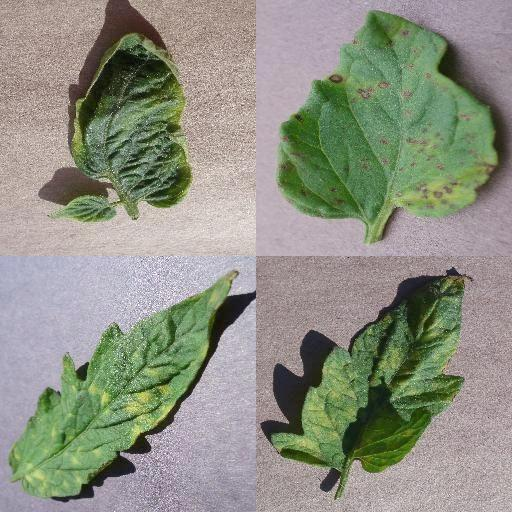Leaf Mold: (8, 270, 240, 498), (270, 274, 464, 472)
Septoria: (275, 10, 500, 220)
Yellow Leaf Curl Virus: (69, 30, 195, 210), (47, 194, 117, 224)
